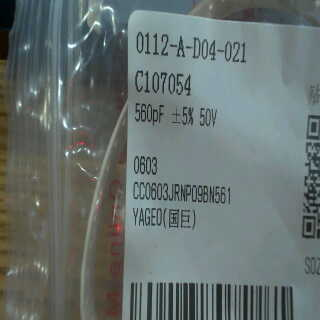560pF: (132, 97, 164, 130)
